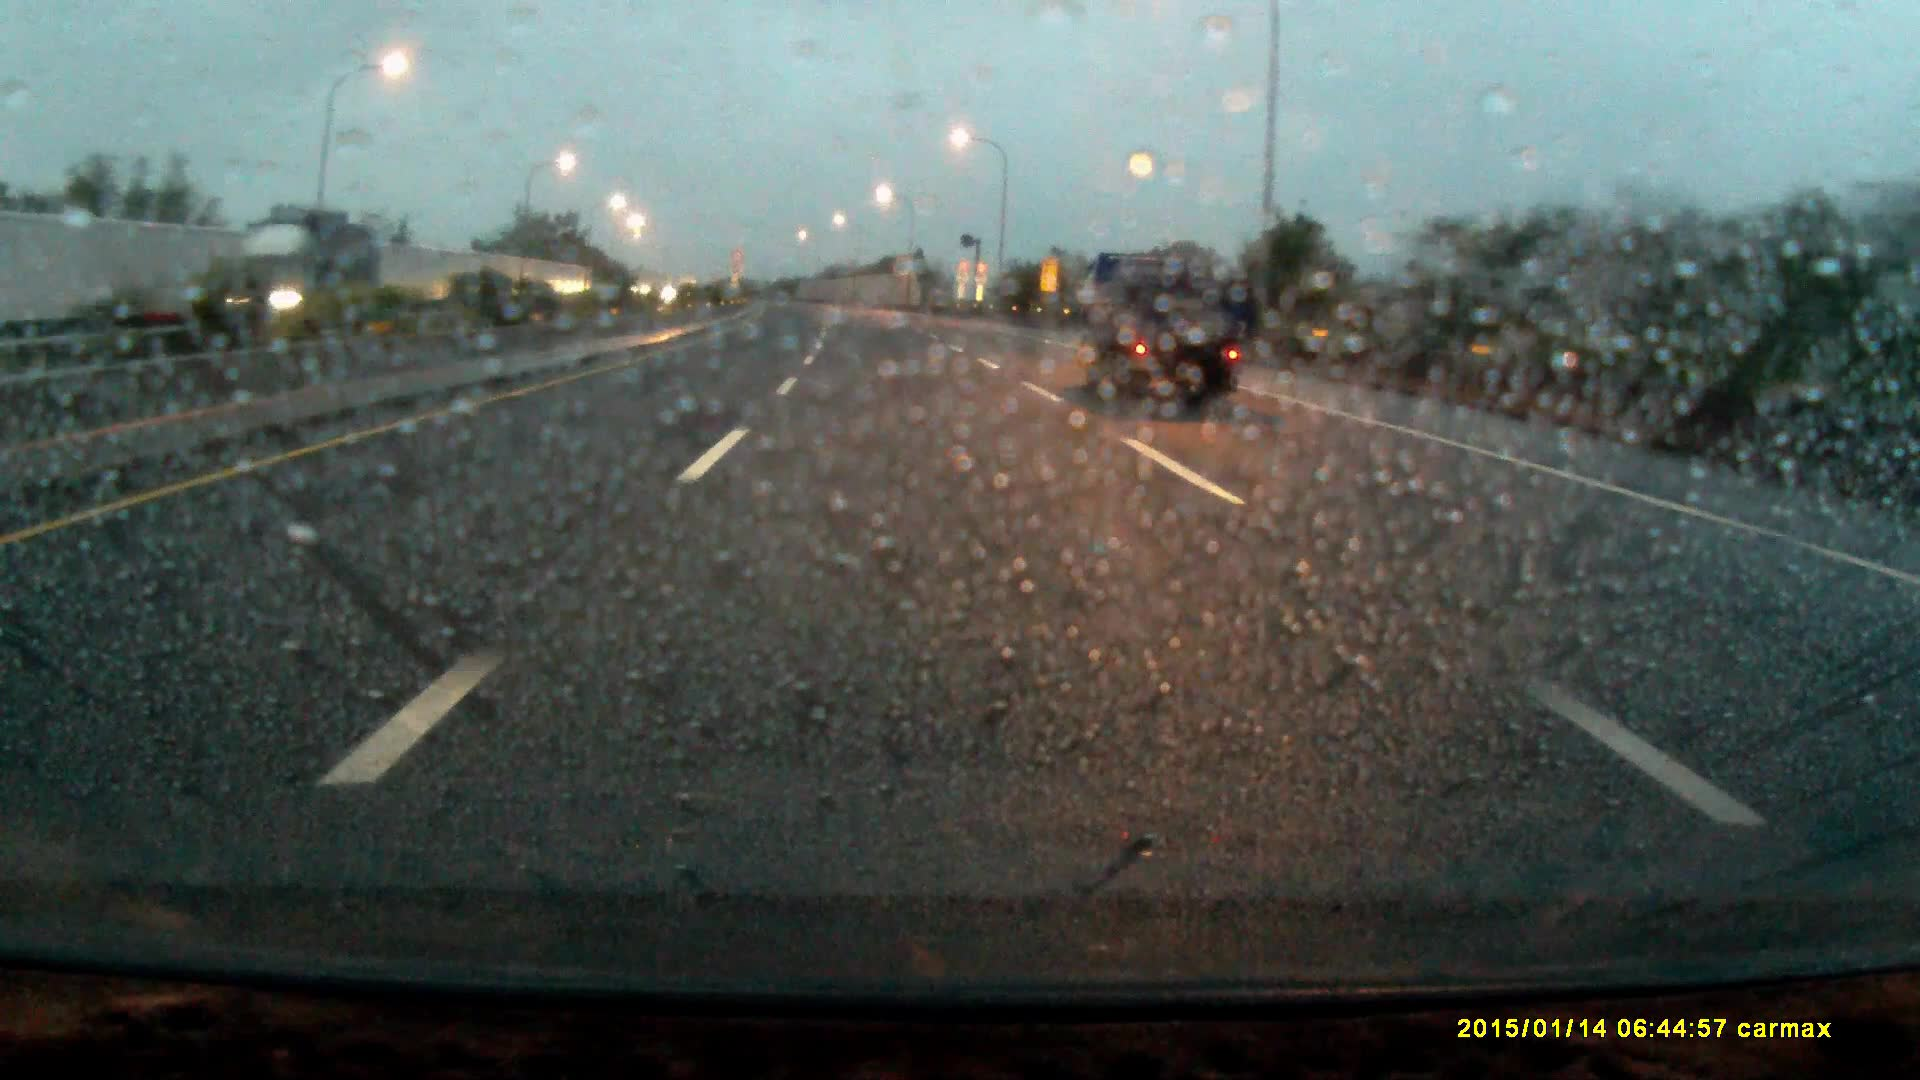vehicle: (1071, 248, 1237, 406), (218, 218, 368, 339)
